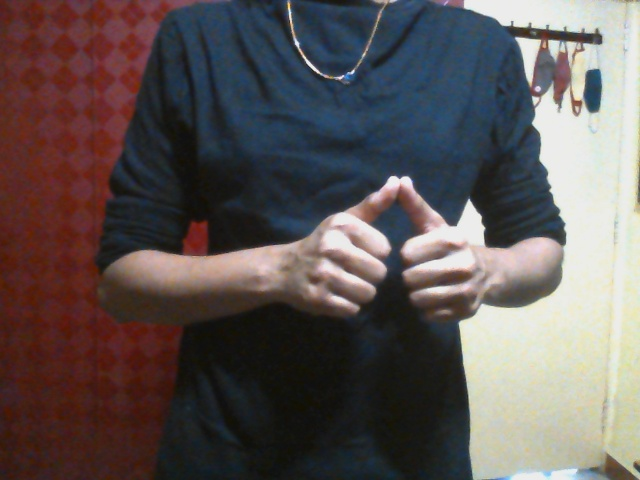A: (292, 174, 482, 323)
